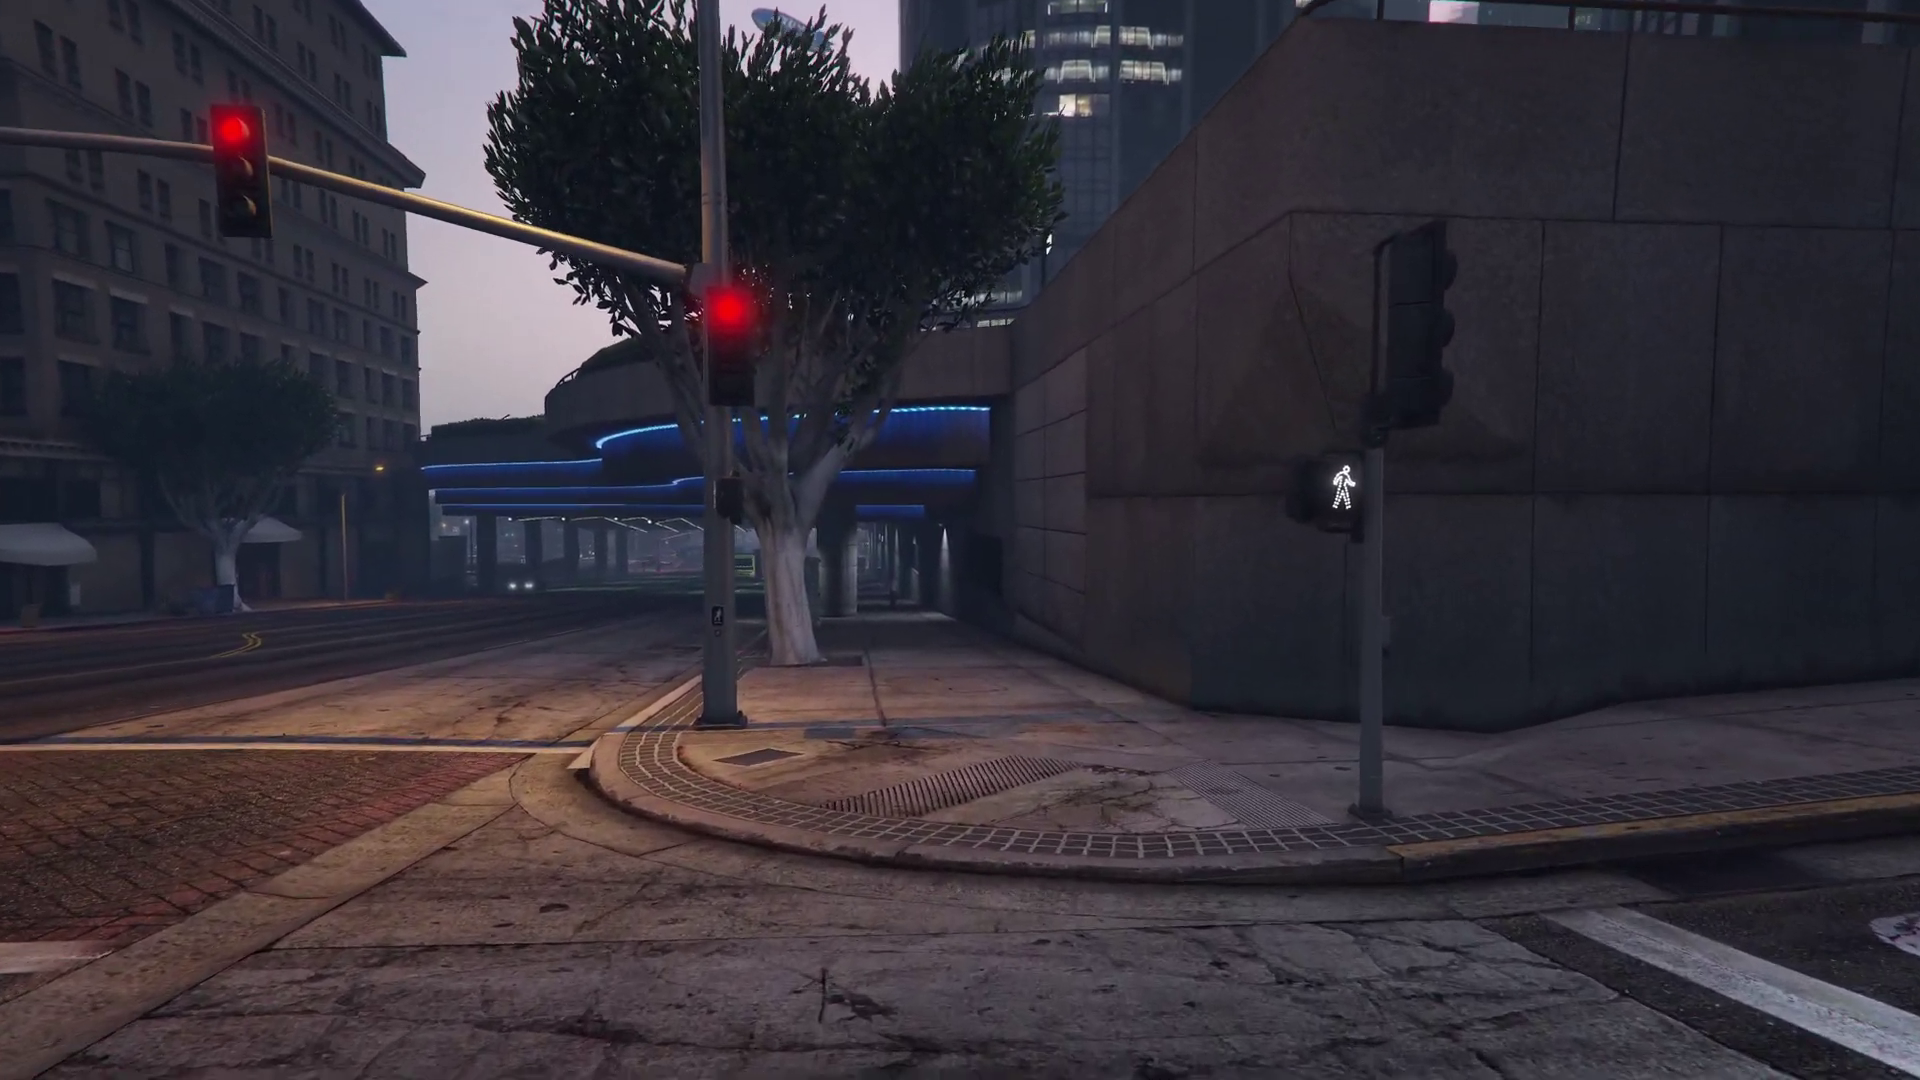car: (506, 575, 546, 596)
traffic light: (1383, 220, 1453, 425), (208, 102, 270, 237), (1290, 443, 1374, 529), (705, 287, 756, 405)
